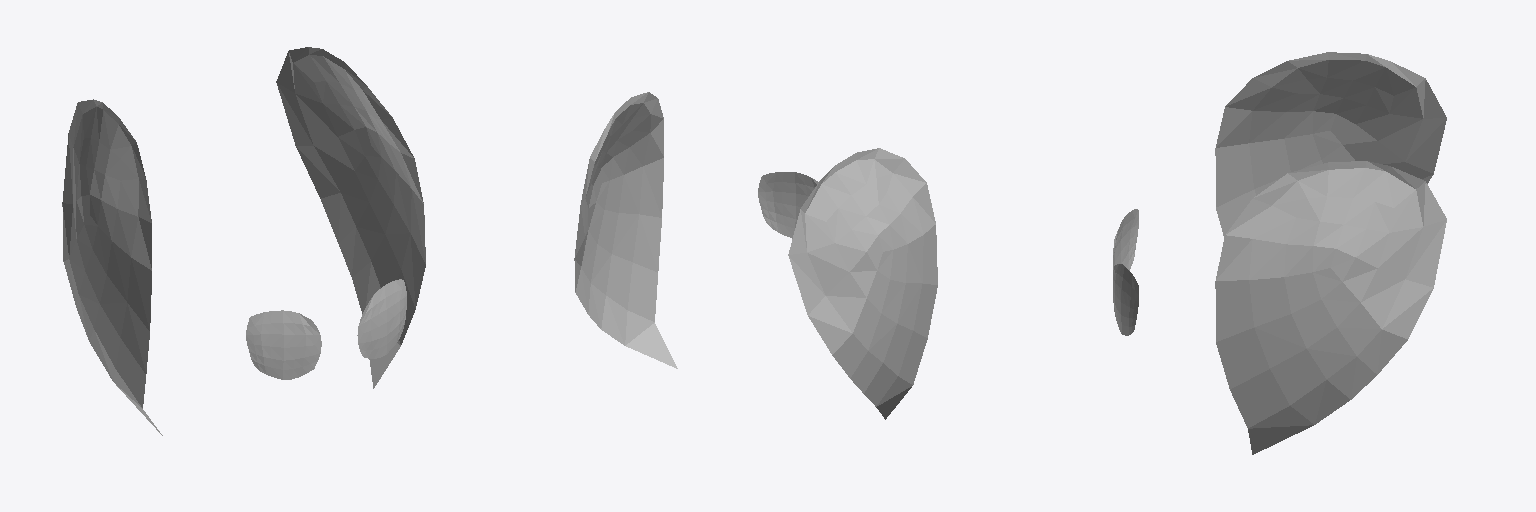
File: headHigh.obj
3 views of the same model, side by side, from view 1: azimuth 30°, elevation 25°; view 2: azimuth 150°, elevation 25°; view 3: azimuth 270°, elevation 25° (orthographic).
Parts seen in each view (by area): view 1: Head.002; view 2: Head.002; view 3: Head.002.
Part boxes in pixels (bbox=[...]): Head.002: bbox=[62, 47, 425, 435]; Head.002: bbox=[574, 92, 937, 419]; Head.002: bbox=[1113, 52, 1446, 454].
Bounding box in the file's own units: 0.1816 × 0.1798 × 0.1833.